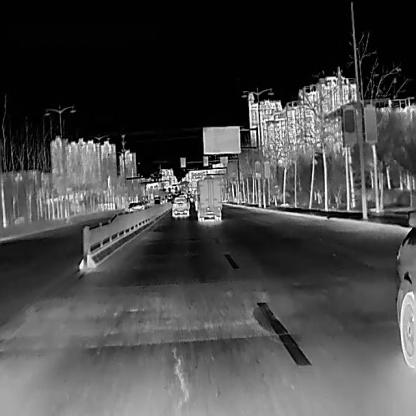car: (170, 195, 188, 218)
truck: (195, 176, 221, 221), (152, 195, 161, 207)
